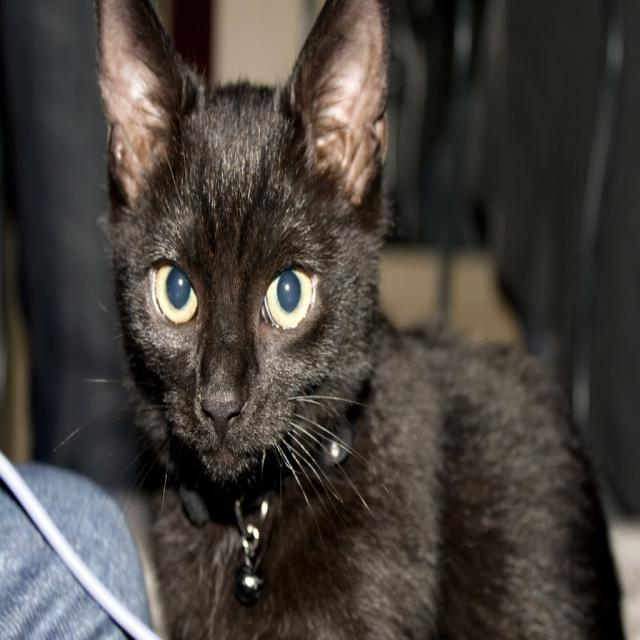Cat: (51, 0, 627, 638)
